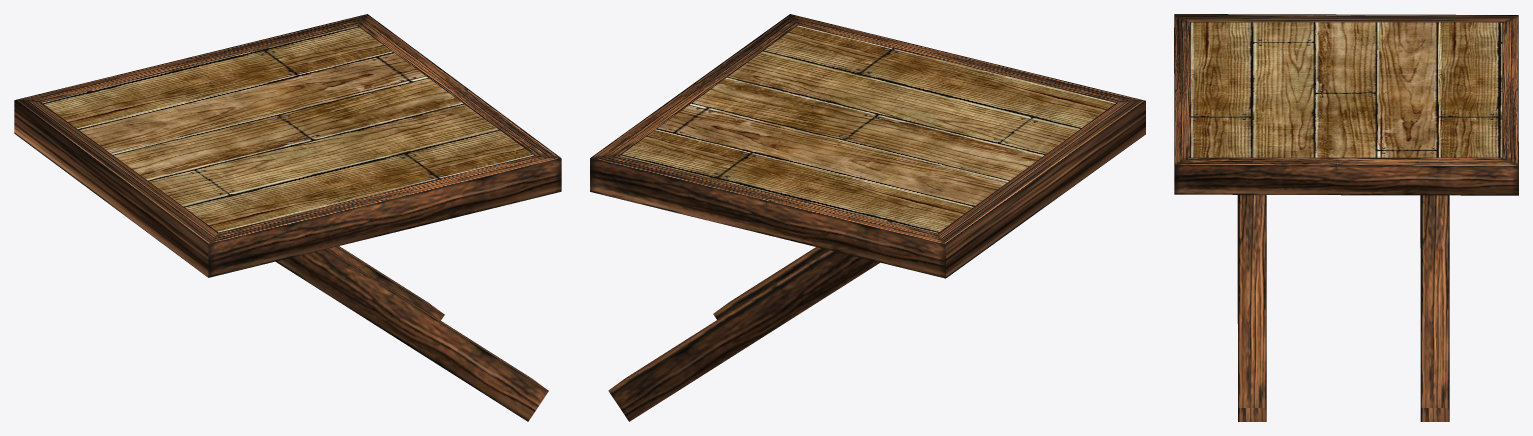
The model's file is LAKETOWN_WAREHOUSE3_PS_WH3_PLATFORM84847__GX.fbx.
3 views of the same model, side by side, from view 1: azimuth 30°, elevation 25°; view 2: azimuth 150°, elevation 25°; view 3: azimuth 270°, elevation 25° (orthographic). The views are drawn at different scales.
Visible parts, largest first — view 1: LAKETOWN_WAREHOUSE3_PS_WH3_PLATFORM84847__GX; view 2: LAKETOWN_WAREHOUSE3_PS_WH3_PLATFORM84847__GX; view 3: LAKETOWN_WAREHOUSE3_PS_WH3_PLATFORM84847__GX.
Part boxes in pixels (left/top/right/bottom): LAKETOWN_WAREHOUSE3_PS_WH3_PLATFORM84847__GX: left=14, top=14, right=561, bottom=421; LAKETOWN_WAREHOUSE3_PS_WH3_PLATFORM84847__GX: left=590, top=14, right=1145, bottom=421; LAKETOWN_WAREHOUSE3_PS_WH3_PLATFORM84847__GX: left=1174, top=14, right=1518, bottom=421.
Size of the model in its own units: 23072 by 17022 by 20816.
2 materials, 2 textured.
